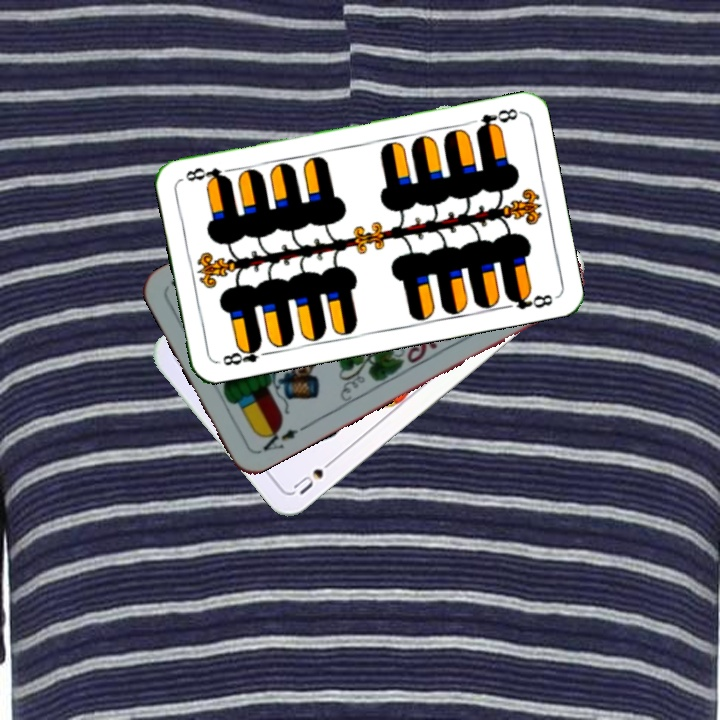E8: (219, 338, 273, 368), (471, 104, 522, 135)
EA: (254, 421, 301, 456)
SU: (289, 453, 340, 498)
